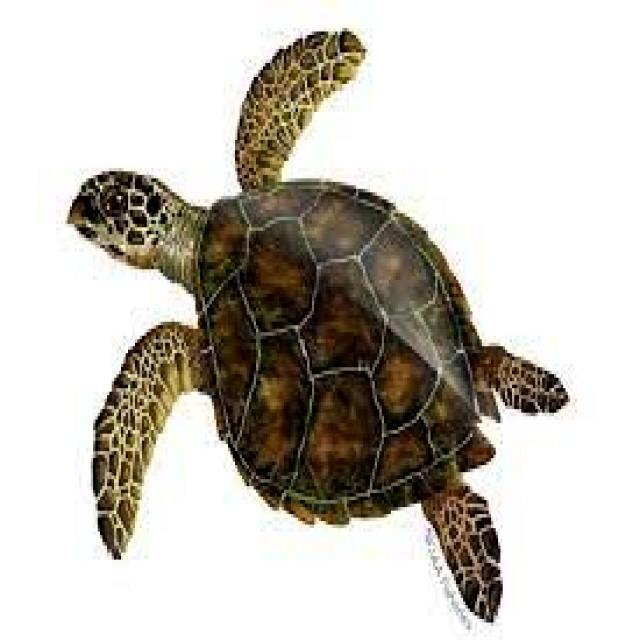Sea turtle: (41, 53, 588, 618)
